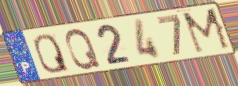2: (95, 22, 135, 67)
4: (134, 17, 161, 62)
7: (155, 13, 184, 58)
M: (180, 6, 234, 56)
Q: (32, 32, 72, 75), (64, 28, 103, 72)
